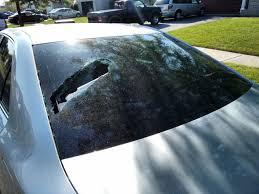Rear-windscreen-Damage: (22, 34, 255, 164)
